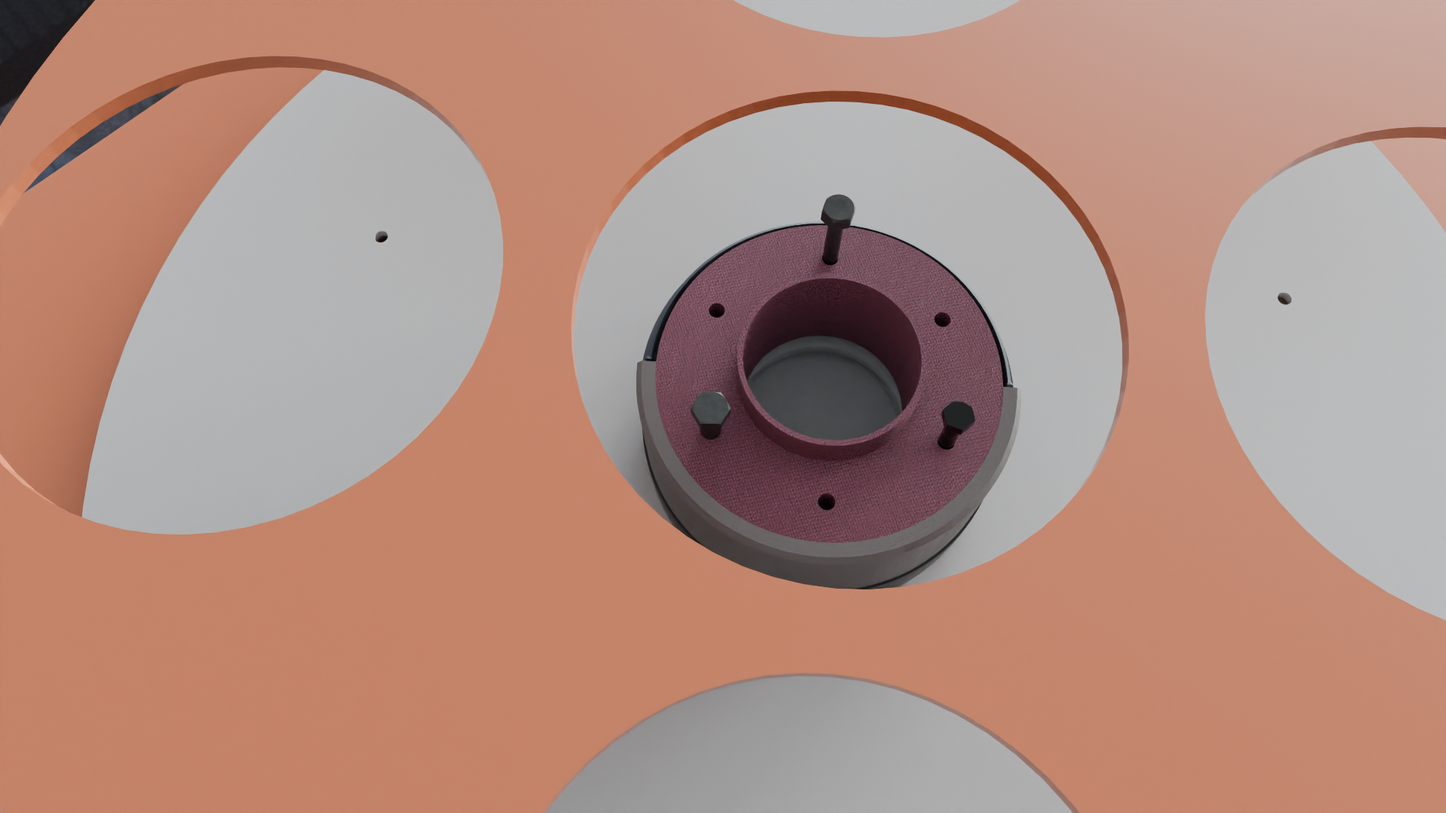bolt: (691, 391, 731, 424), (822, 194, 856, 224), (943, 400, 975, 431)
